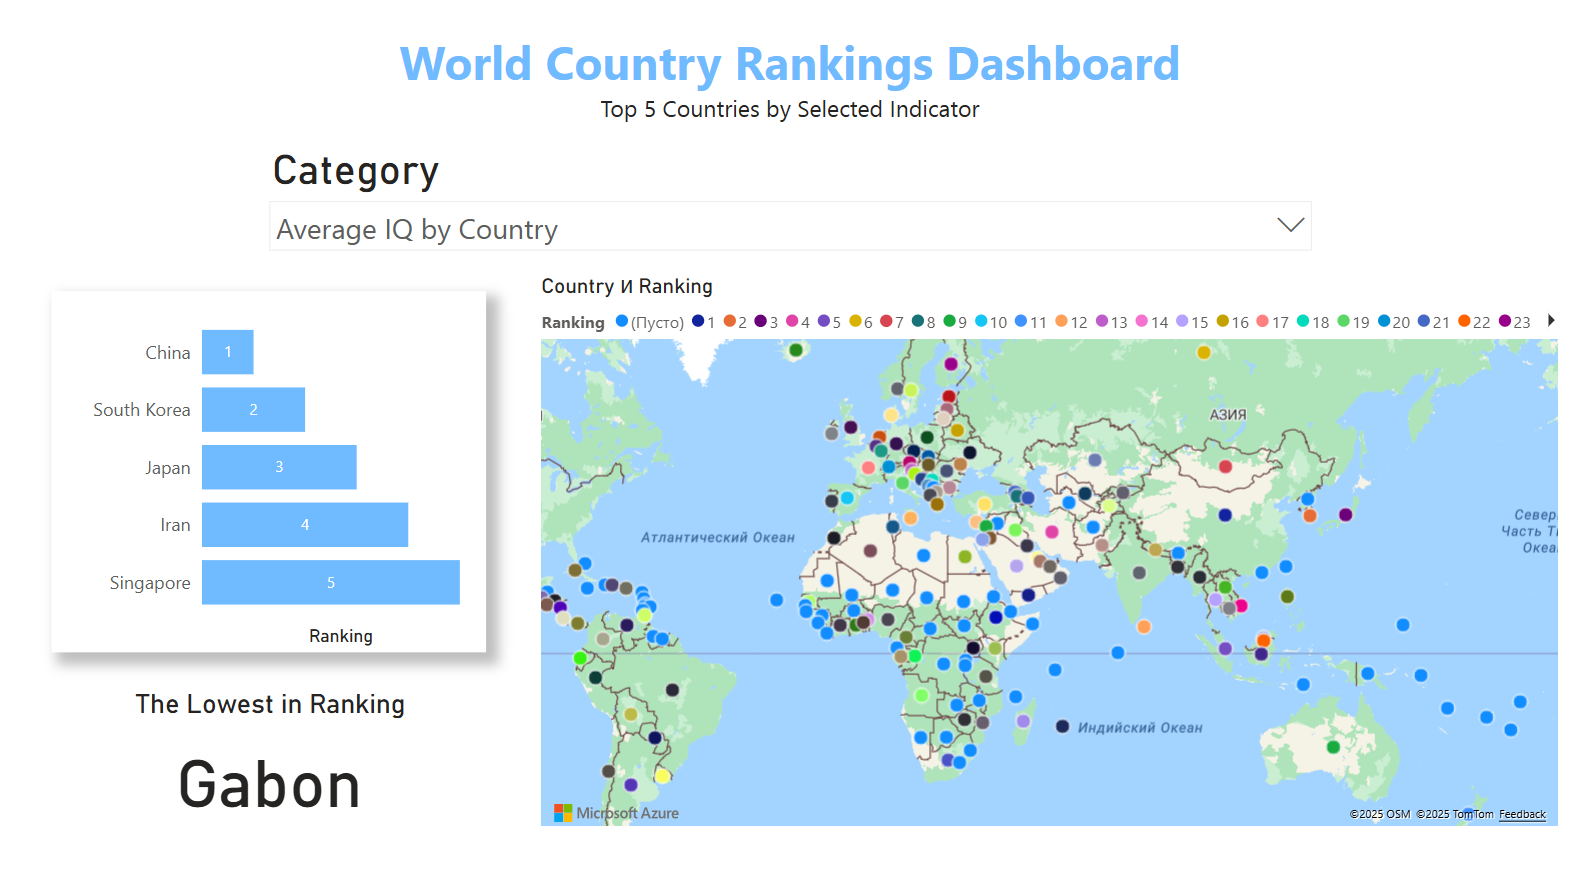

Layout of this report page (visuals, bound fields, positions):
{"tool":"powerbi","page":{"name":"Страница 1","canvas":[1280,720],"ordinal":0},"visuals":[{"type":"clusteredBarChart","fields":{"Category":["world_rankings.Атрибут"],"Y":["Sum(world_rankings.Ranking)"]},"box":[42.5,238.8,351.3,292.3],"z":0},{"type":"slicer","fields":{"Values":["world_rankings.index"]},"box":[208.6,116.6,863.1,107],"z":1000},{"type":"textbox","box":[303.3,23.3,672.4,93.3],"z":2000},{"type":"azureMap","fields":{"Category":["world_rankings.Country"],"Series":["world_rankings.Ranking"]},"box":[433.6,223.7,831.6,452.8],"z":3000},{"type":"card","title":"The Lowest in Ranking","fields":{"Values":["Min(world_rankings.Country)"]},"box":[98.8,559.9,240.1,116.6],"z":4000}]}

Visuals, with their boxes in screenshot pixels (x1, y1, x2, y2), scaled from the page's 1280x720 canvas onto the 1576x874 screenshot:
clusteredBarChart - world_rankings.Атрибут x Sum(world_rankings.Ranking): 52:290:485:645
slicer - world_rankings.index: 257:142:1320:271
textbox: 373:28:1201:142
azureMap - world_rankings.Country x world_rankings.Ranking: 534:272:1558:821
"The Lowest in Ranking" card: 122:680:417:821
